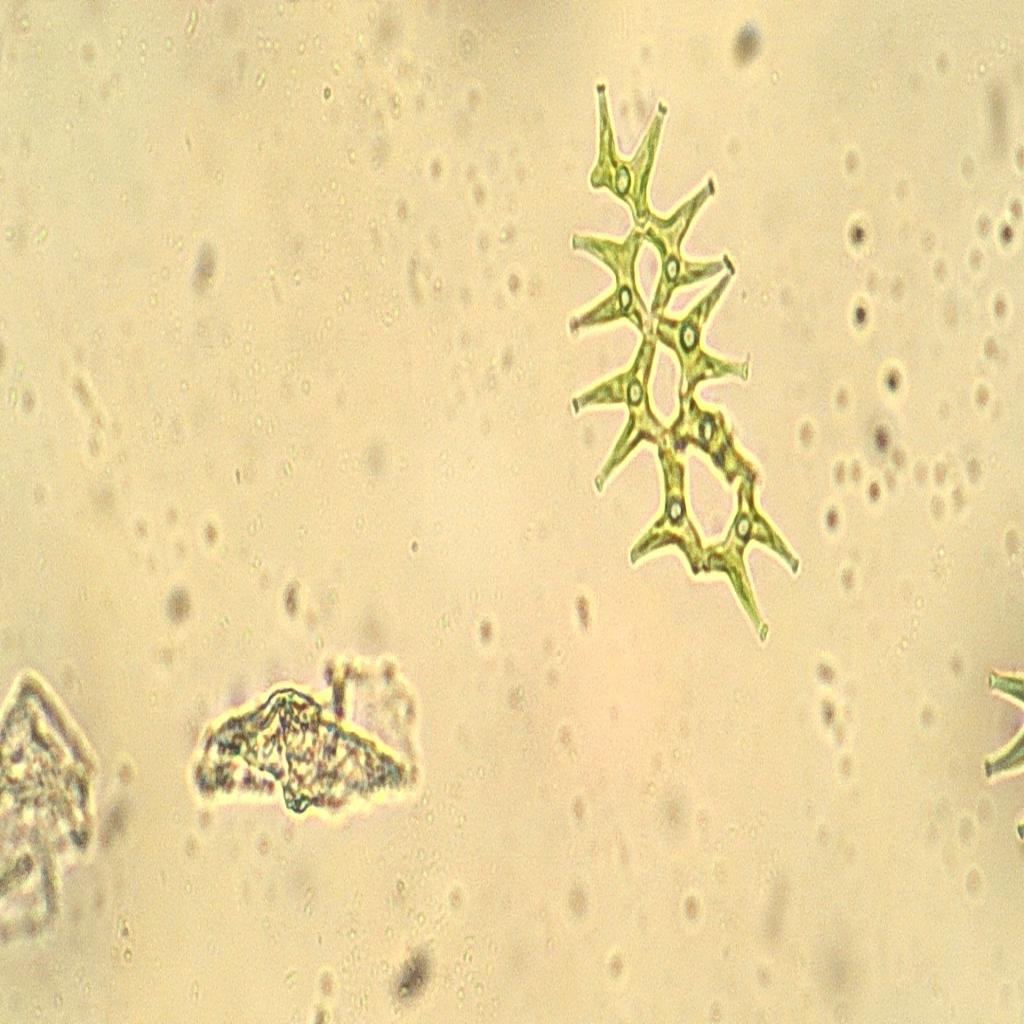Pediastrum_CFI: (562, 67, 814, 672)
